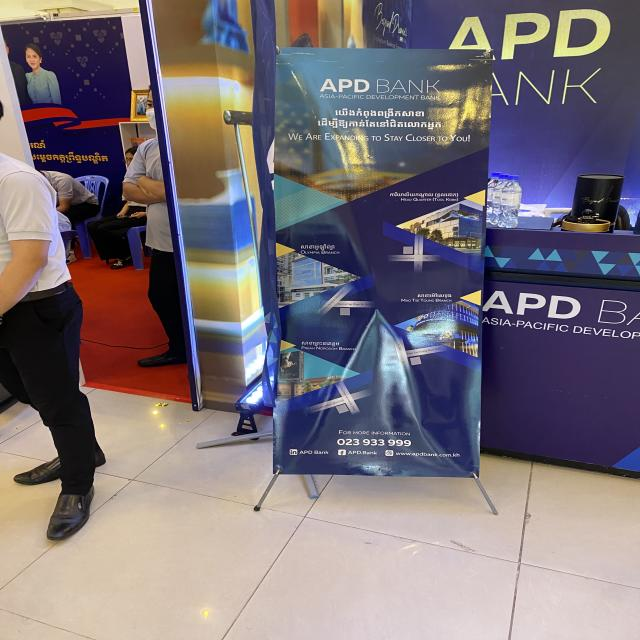1: (385, 188, 464, 200)
333: (334, 435, 415, 449)
Yolov11_80vkh: (316, 116, 446, 131), (330, 106, 428, 119), (34, 151, 110, 166), (299, 339, 343, 347), (300, 243, 337, 251), (415, 292, 456, 299), (28, 139, 48, 149)
